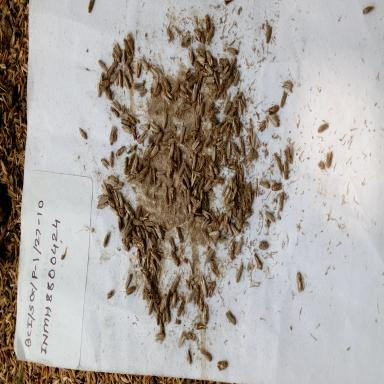pbw: (122, 226, 132, 252), (238, 185, 247, 213), (126, 32, 137, 54), (170, 274, 181, 295), (234, 261, 244, 284), (182, 160, 194, 179), (150, 250, 162, 269), (122, 160, 136, 176), (123, 201, 136, 218), (202, 60, 215, 77), (121, 35, 131, 57), (296, 271, 306, 293), (168, 182, 176, 209), (189, 135, 201, 153), (258, 176, 272, 191), (123, 271, 133, 292), (105, 182, 116, 201), (155, 223, 166, 242), (230, 141, 241, 160), (115, 140, 126, 159), (201, 131, 212, 150), (201, 347, 214, 363), (185, 328, 198, 344), (203, 249, 215, 266), (162, 288, 172, 308), (121, 70, 131, 90), (206, 49, 216, 69), (234, 236, 243, 258), (185, 288, 196, 306), (184, 276, 198, 290), (268, 114, 280, 130), (140, 265, 152, 281), (274, 155, 284, 174), (170, 248, 180, 267), (150, 232, 160, 251), (204, 15, 213, 36), (143, 249, 152, 270), (130, 155, 139, 176), (189, 194, 200, 211), (150, 272, 158, 295), (182, 126, 196, 139), (132, 238, 145, 252), (208, 177, 220, 192), (225, 310, 237, 325), (188, 173, 198, 191), (177, 329, 186, 349), (124, 283, 136, 298), (135, 203, 144, 223), (187, 48, 196, 68), (281, 78, 296, 90), (206, 106, 221, 118), (212, 72, 222, 90), (177, 298, 187, 316), (109, 105, 120, 121), (142, 217, 158, 228), (196, 174, 204, 196), (206, 24, 214, 46), (206, 205, 217, 221), (229, 220, 240, 236), (282, 160, 290, 182), (204, 152, 212, 174), (152, 291, 160, 313), (232, 68, 241, 87), (223, 91, 232, 110), (100, 156, 110, 173), (210, 258, 220, 275), (139, 153, 152, 166), (216, 358, 228, 372), (238, 161, 246, 182), (98, 78, 110, 92), (201, 304, 209, 325), (126, 63, 134, 84), (162, 128, 174, 142), (168, 140, 176, 161), (247, 179, 253, 207), (230, 238, 237, 262), (102, 229, 110, 250), (216, 138, 228, 152), (96, 200, 111, 211), (227, 105, 238, 120), (97, 58, 108, 73), (127, 112, 138, 127), (116, 42, 125, 60), (237, 96, 246, 114), (175, 224, 184, 242), (279, 89, 288, 107), (112, 48, 121, 66), (208, 280, 217, 298), (86, 0, 96, 16), (216, 82, 224, 102), (194, 27, 204, 43), (249, 130, 257, 150), (152, 82, 162, 98), (78, 125, 88, 141), (139, 56, 149, 72), (144, 142, 154, 158), (146, 297, 154, 317), (138, 165, 148, 181), (220, 148, 228, 168), (223, 200, 235, 213), (184, 213, 196, 226), (152, 247, 164, 260), (317, 121, 329, 134), (195, 54, 207, 67), (258, 238, 270, 251), (177, 90, 190, 102), (181, 68, 193, 81), (216, 234, 229, 246), (265, 210, 277, 223), (121, 122, 132, 136), (201, 216, 212, 230), (195, 109, 202, 131), (184, 187, 191, 209), (125, 142, 136, 156), (208, 219, 222, 230), (169, 237, 178, 254), (207, 164, 216, 181), (150, 143, 159, 160), (230, 185, 238, 204), (170, 292, 178, 311), (109, 69, 119, 84), (192, 200, 202, 215), (160, 292, 167, 313), (146, 166, 153, 187), (132, 80, 144, 92), (164, 186, 170, 210), (225, 208, 233, 226), (196, 45, 208, 57), (225, 74, 234, 90), (118, 190, 126, 208), (192, 58, 204, 70), (177, 159, 186, 175), (186, 347, 194, 365), (130, 124, 138, 142), (268, 103, 280, 115), (162, 76, 171, 92), (120, 116, 132, 128), (176, 145, 182, 169), (255, 253, 263, 271), (213, 124, 222, 140), (131, 228, 140, 244), (155, 169, 168, 180), (208, 228, 221, 239), (178, 179, 188, 193), (120, 236, 134, 246), (226, 47, 240, 57), (204, 76, 218, 86), (196, 69, 203, 89), (193, 286, 200, 306), (220, 65, 230, 79), (137, 131, 147, 145), (233, 88, 243, 102), (196, 92, 203, 112), (112, 98, 122, 112), (155, 129, 165, 143), (192, 82, 199, 102), (175, 142, 189, 152), (224, 114, 238, 124), (266, 24, 273, 44), (158, 311, 164, 334), (99, 68, 105, 91), (229, 57, 237, 74), (164, 307, 172, 324), (232, 121, 239, 140), (136, 249, 143, 268), (240, 134, 246, 156), (201, 278, 207, 300), (138, 121, 150, 132), (118, 68, 124, 90), (160, 142, 172, 153), (277, 191, 283, 213), (173, 144, 179, 166), (193, 142, 204, 154), (139, 210, 150, 222), (173, 318, 185, 329), (98, 194, 110, 205), (154, 332, 167, 342), (181, 34, 191, 47), (212, 176, 225, 186), (107, 174, 120, 184), (194, 322, 207, 332), (133, 217, 146, 227), (203, 180, 213, 193), (100, 180, 108, 196), (183, 172, 191, 188), (144, 230, 152, 246), (108, 62, 116, 78), (128, 150, 136, 166), (223, 182, 231, 198), (135, 60, 142, 78), (94, 82, 101, 100), (202, 195, 209, 213), (161, 112, 168, 130), (216, 219, 225, 233), (150, 118, 159, 132), (151, 166, 158, 184), (179, 124, 186, 142), (223, 213, 229, 234), (198, 101, 205, 119), (163, 92, 172, 106), (270, 182, 284, 191), (155, 305, 161, 326), (216, 210, 224, 225), (170, 83, 180, 95), (152, 182, 162, 194), (199, 208, 211, 218), (219, 57, 231, 67), (162, 306, 168, 326), (170, 159, 176, 179), (179, 82, 189, 94), (124, 223, 132, 238), (233, 172, 239, 192), (226, 140, 232, 160), (200, 290, 205, 314), (194, 214, 207, 223), (106, 288, 115, 301), (150, 62, 158, 76), (207, 99, 215, 113), (181, 100, 192, 110), (227, 162, 238, 172), (106, 197, 116, 208), (228, 177, 233, 199), (213, 64, 224, 74), (210, 164, 219, 176), (145, 225, 157, 234), (148, 133, 157, 145), (136, 224, 142, 241), (238, 207, 244, 224), (115, 70, 121, 87), (113, 125, 118, 145), (244, 210, 254, 220), (124, 55, 133, 66), (139, 87, 148, 98), (110, 205, 119, 216), (112, 182, 126, 189), (220, 122, 228, 134), (123, 211, 129, 227), (254, 178, 259, 196), (211, 145, 216, 163), (226, 225, 234, 236), (200, 186, 205, 203), (117, 214, 122, 231), (104, 86, 110, 100), (208, 117, 220, 124), (109, 149, 113, 168), (192, 154, 197, 169), (242, 219, 249, 228), (124, 154, 128, 168)
